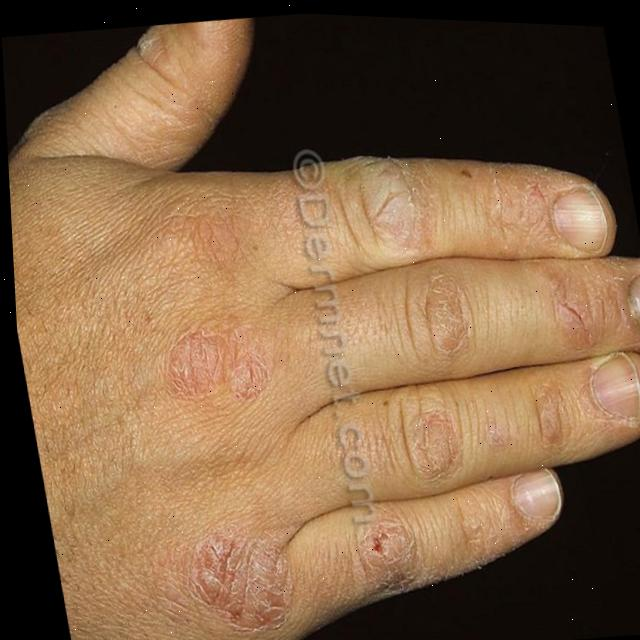Eczema: (119, 132, 640, 640)
